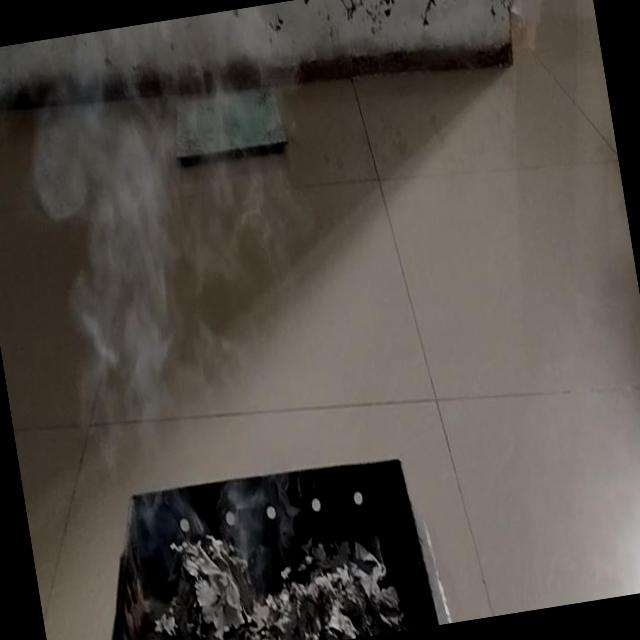smoke: (16, 19, 282, 568)
